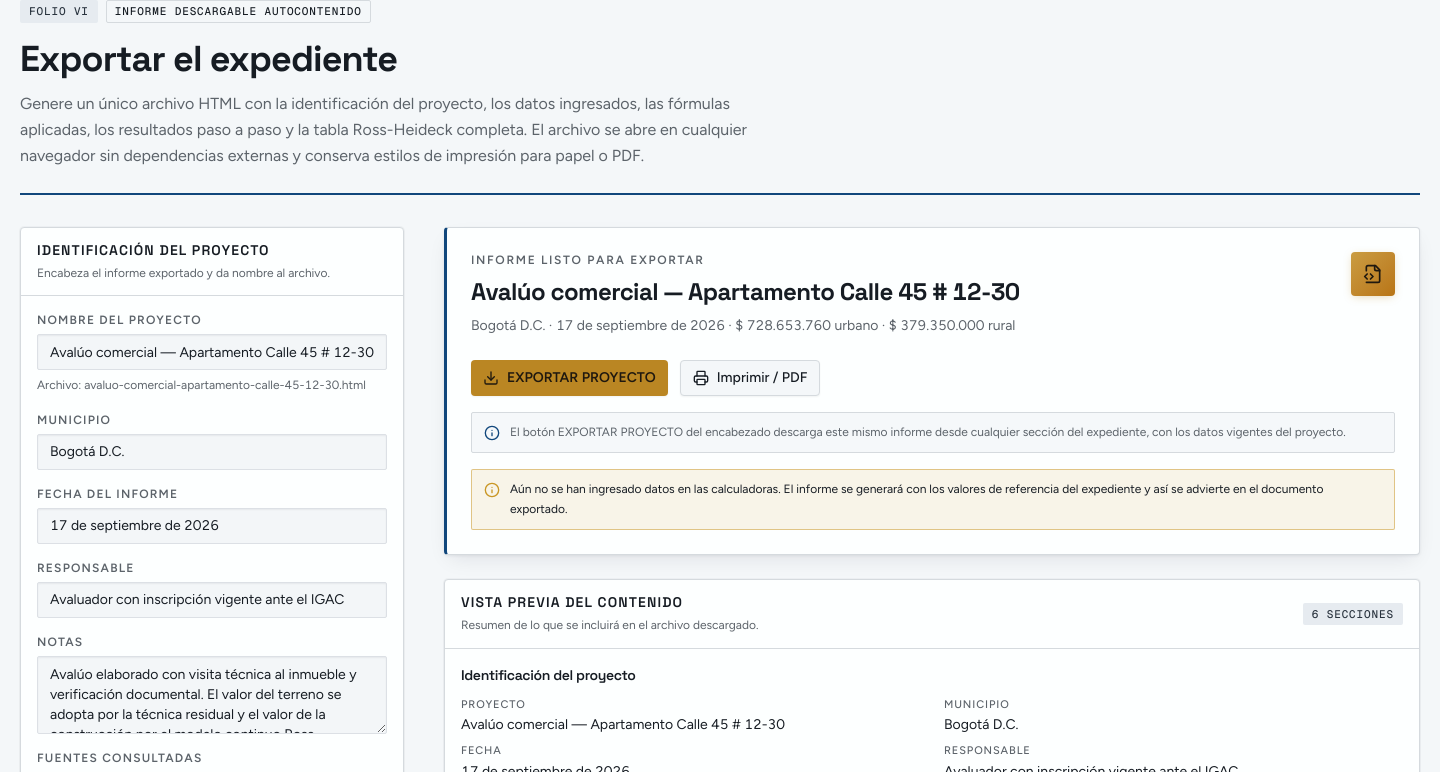
Test: ExportarPage › deriva el nombre del archivo del nombre del proyecto
Replace the text in the field with test id "exportar.nombre_input" with "Avalúo Salgar 2026" at [212, 352], box x1=37 y1=334 x2=387 y2=370
(page scrolled)
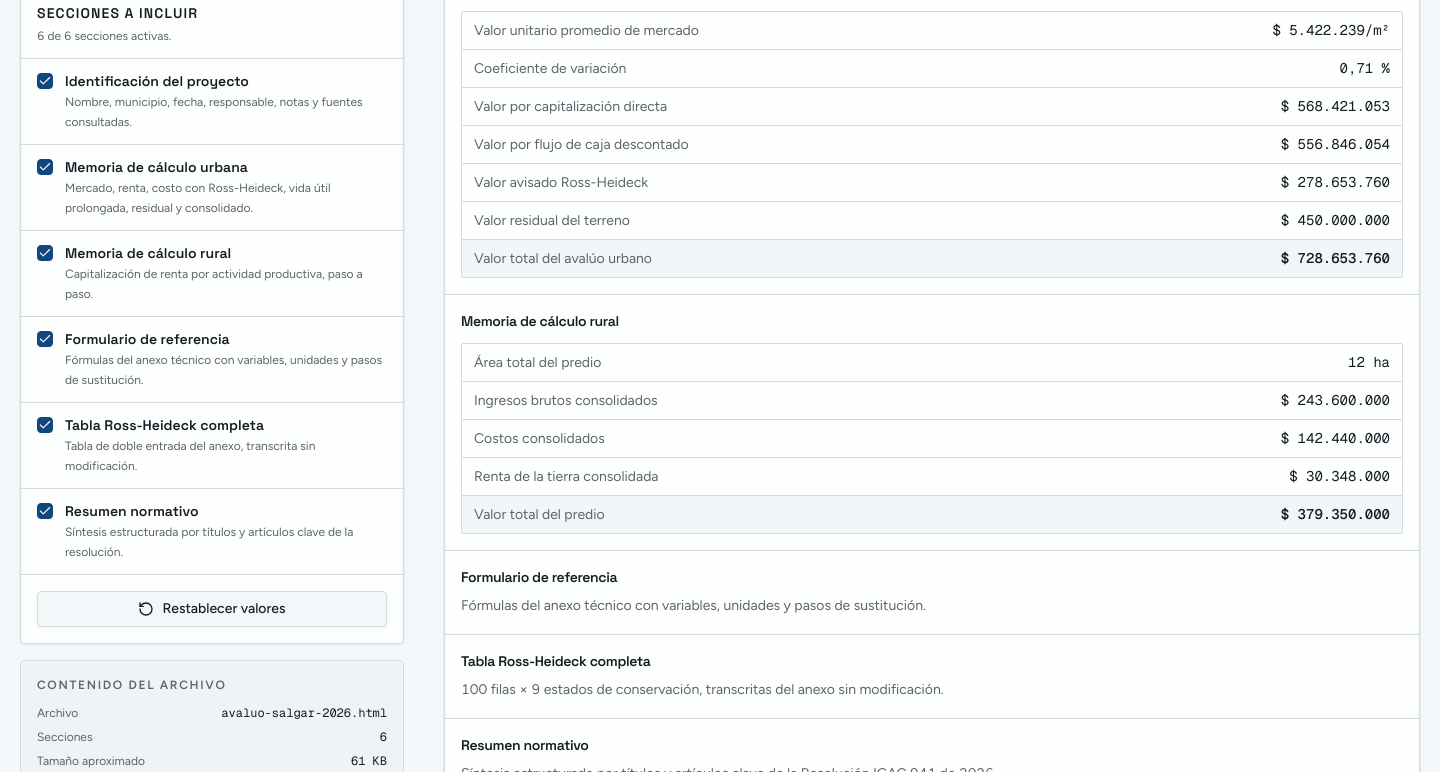
Expected: the text "avaluo-salgar-2026.html" is shown, x1=221 y1=705 x2=387 y2=721
